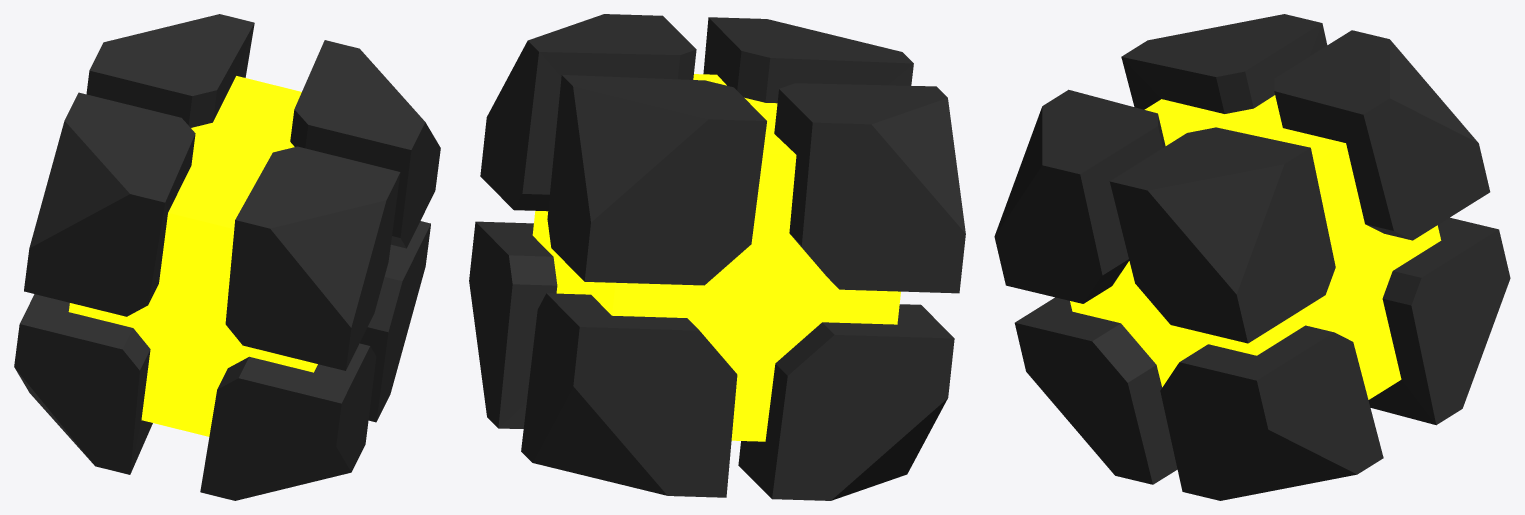
The model's file is chemical-pack.glb.
3 renders of one model, left to right at view 1: azimuth 30°, elevation 25°; view 2: azimuth 150°, elevation 25°; view 3: azimuth 270°, elevation 25°, orthographic. The views are drawn at different scales.
Visible parts, largest first — view 1: Cube.021; view 2: Cube.021; view 3: Cube.021.
Boxes of the visible parts, box(x1,y1,x2,y2) form: Cube.021: box(14, 14, 440, 500); Cube.021: box(469, 14, 965, 500); Cube.021: box(994, 14, 1510, 500).
Size of the model in its own units: 4.8 by 4.04 by 5.
Materials: 1 (1 with a texture image).
